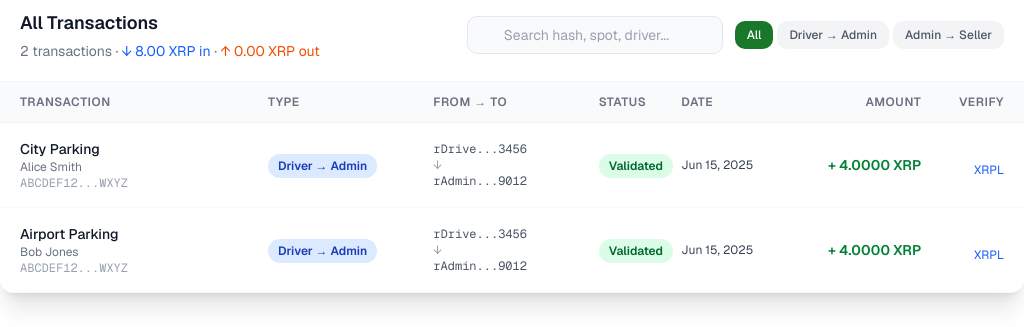
TransactionTable Component › Search Functionality › search filters by driver name
The image size is (1024, 327).
Expected: the text "Alice Smith" is shown, [20,159,82,175]
Type "Alice" into the field with placeholder "Search hash, spot, driver...". click: (595, 35)
box: [467,16,723,54]
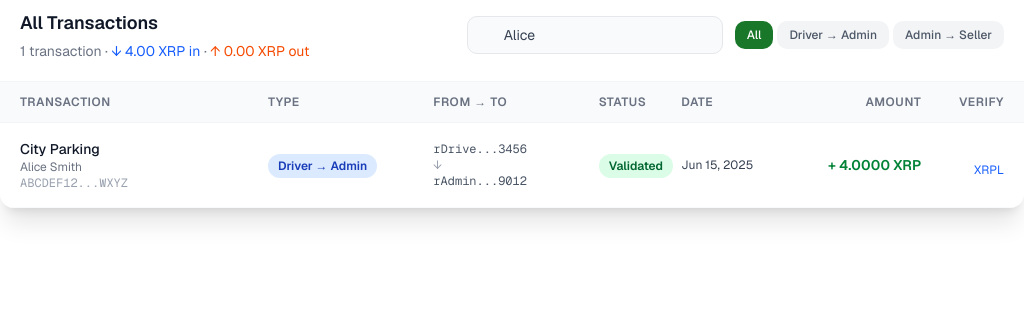
Expected: the text "Alice Smith" is shown, [20,159,82,175]
Result: the text "Bob Jones" is gone
